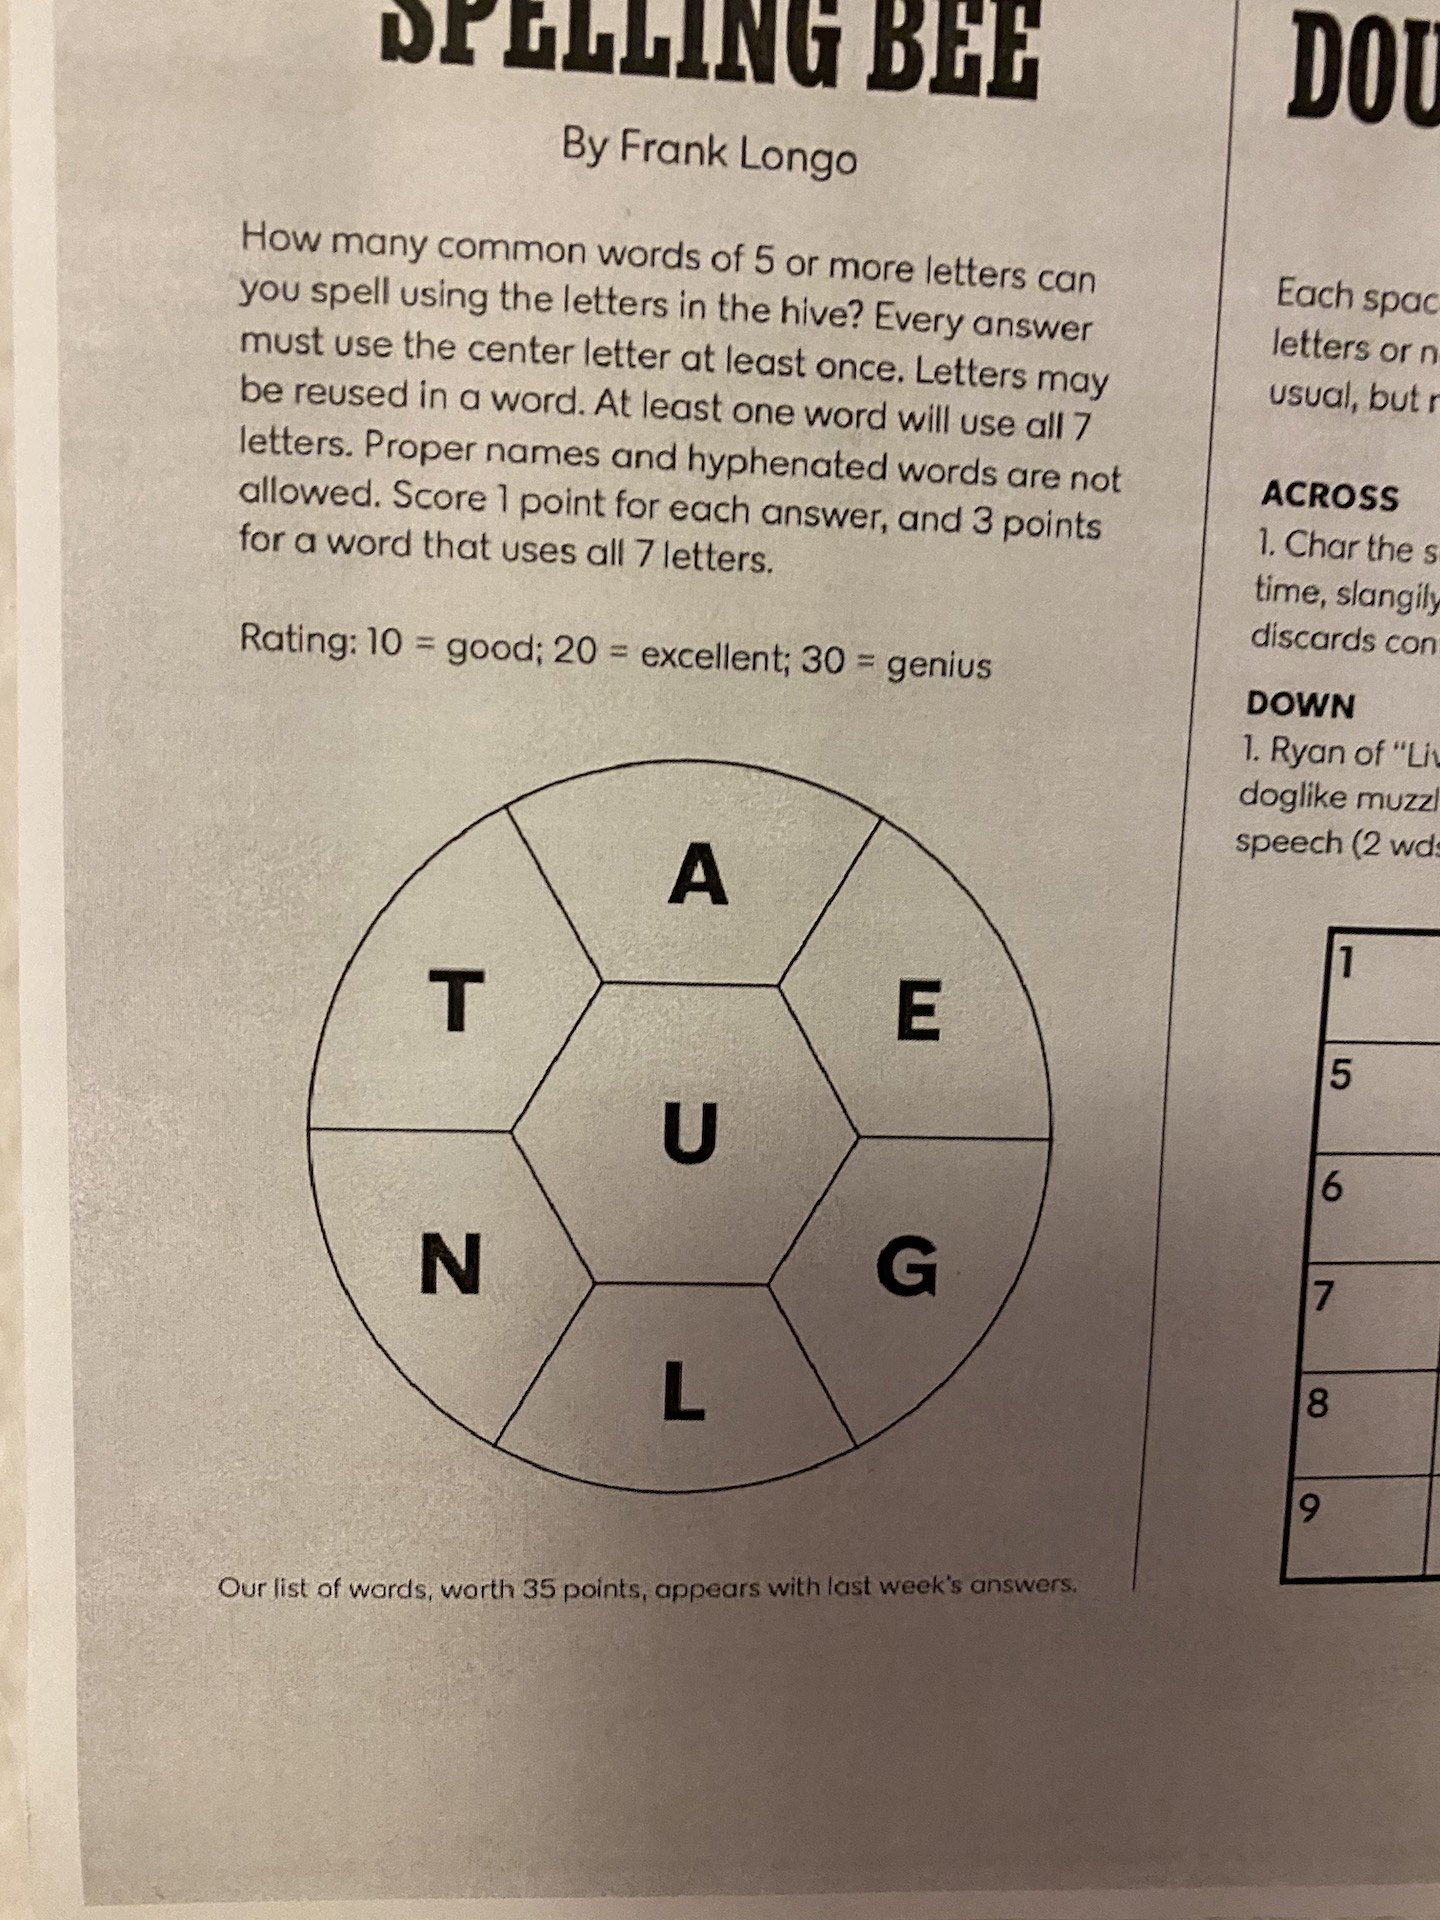PrintBoard: (292, 748, 1066, 1510)
